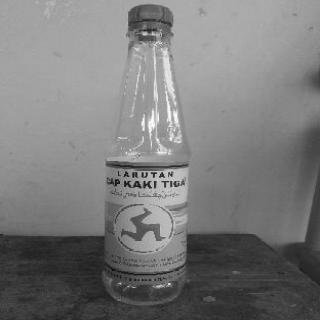plastic_bottles: (99, 3, 193, 305)
